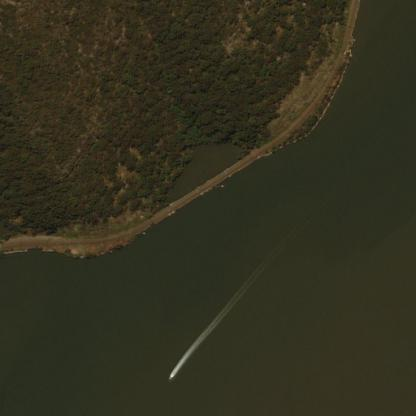ship: (2, 374, 6, 380)
